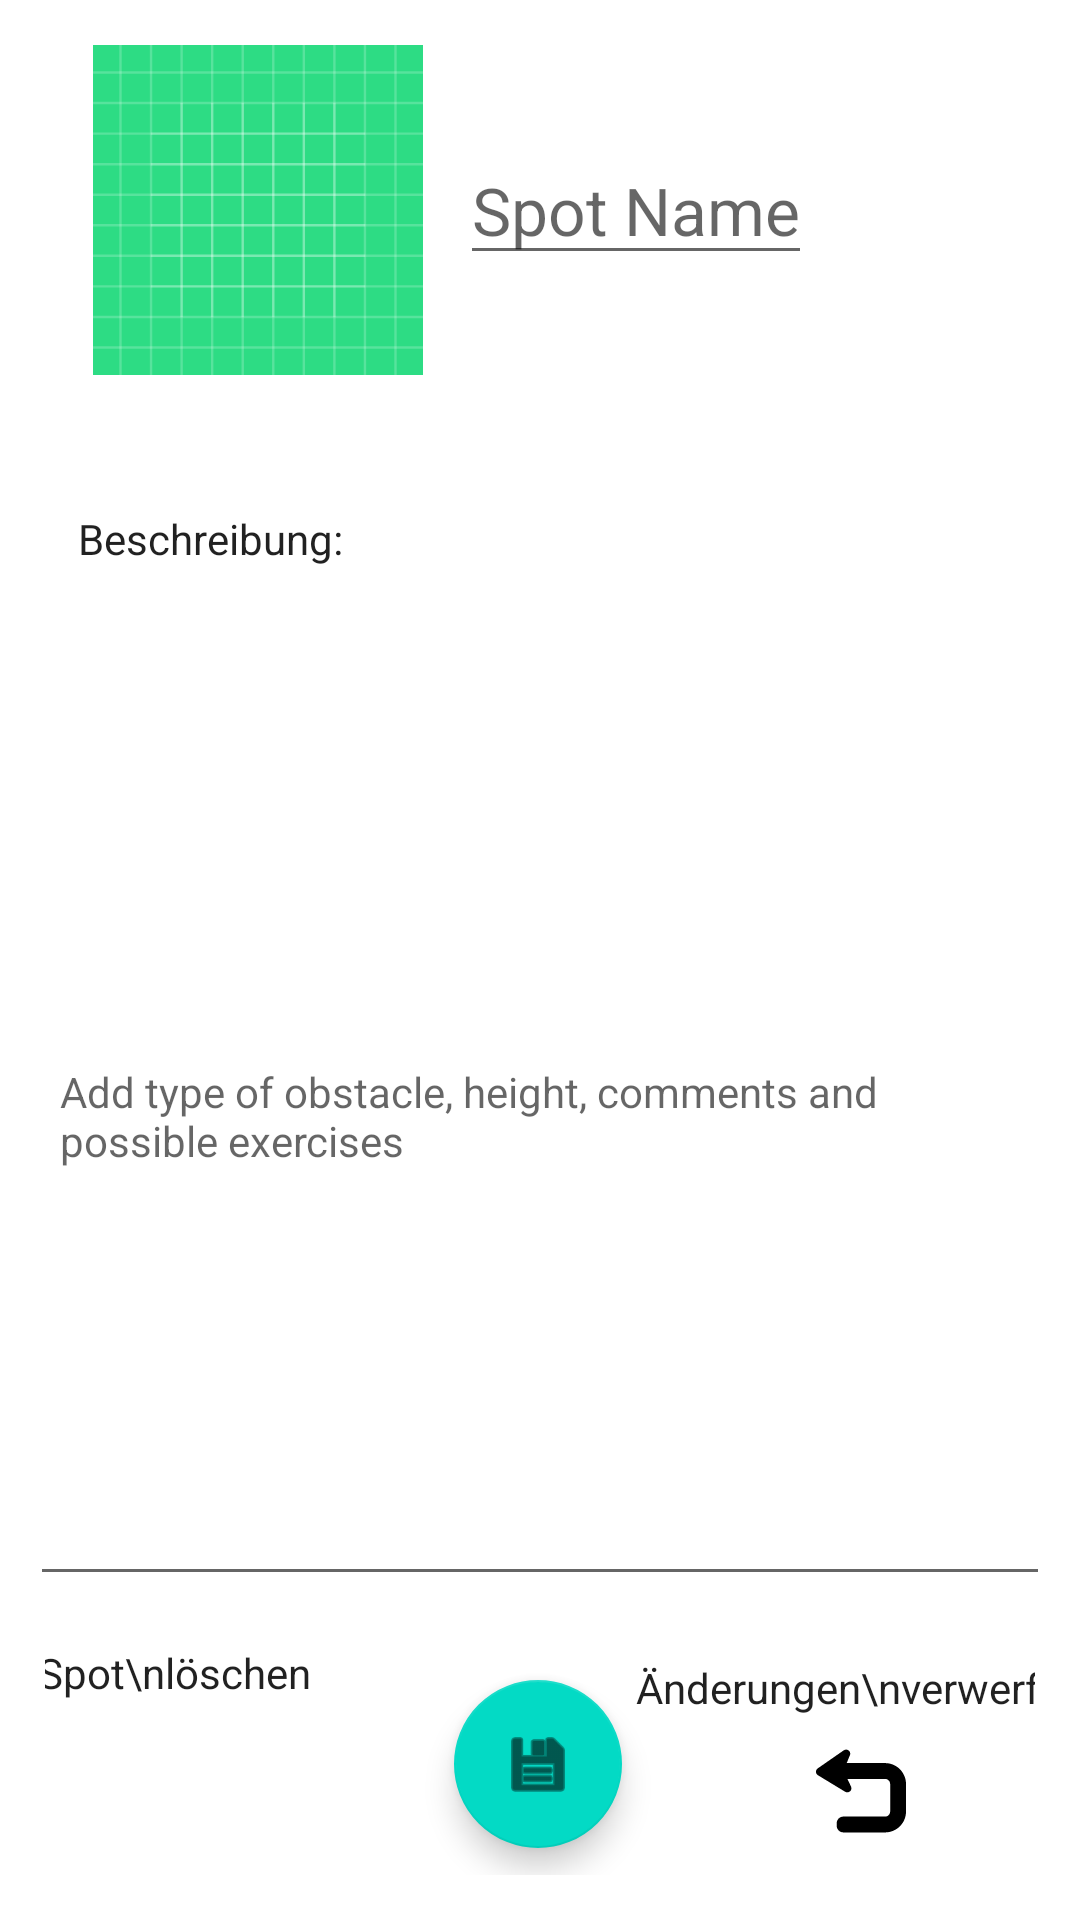

Screen size 1080 × 1920. Icon name, then its box in pixels as (left=x1, top=y1, right=x2, bottom=y2):
return: (left=816, top=1749, right=906, bottom=1833)
save: (left=454, top=1680, right=622, bottom=1848)
